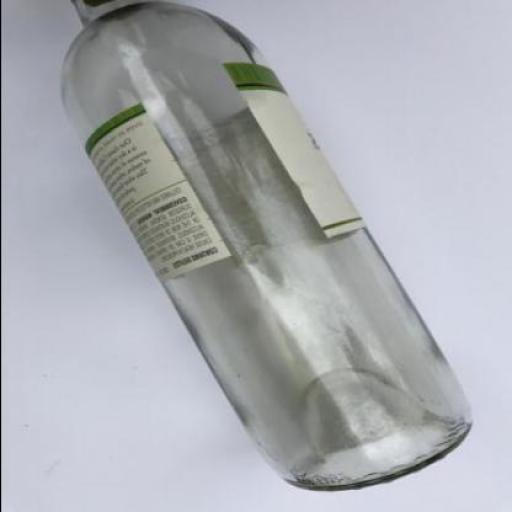glass: (60, 0, 473, 490)
